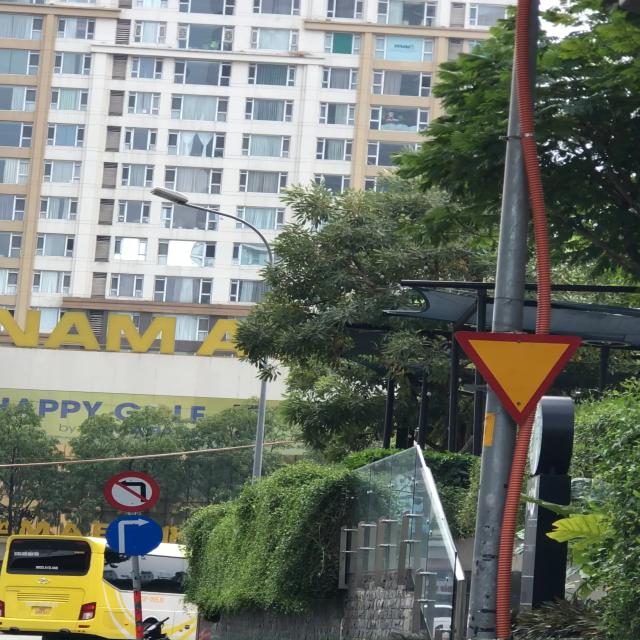Bien bao cam re trai: (100, 468, 162, 513)
Bien bao giao nhau voi duong uu tien: (446, 323, 591, 430)
Bien bao huong di phai theo: (104, 512, 170, 559)
